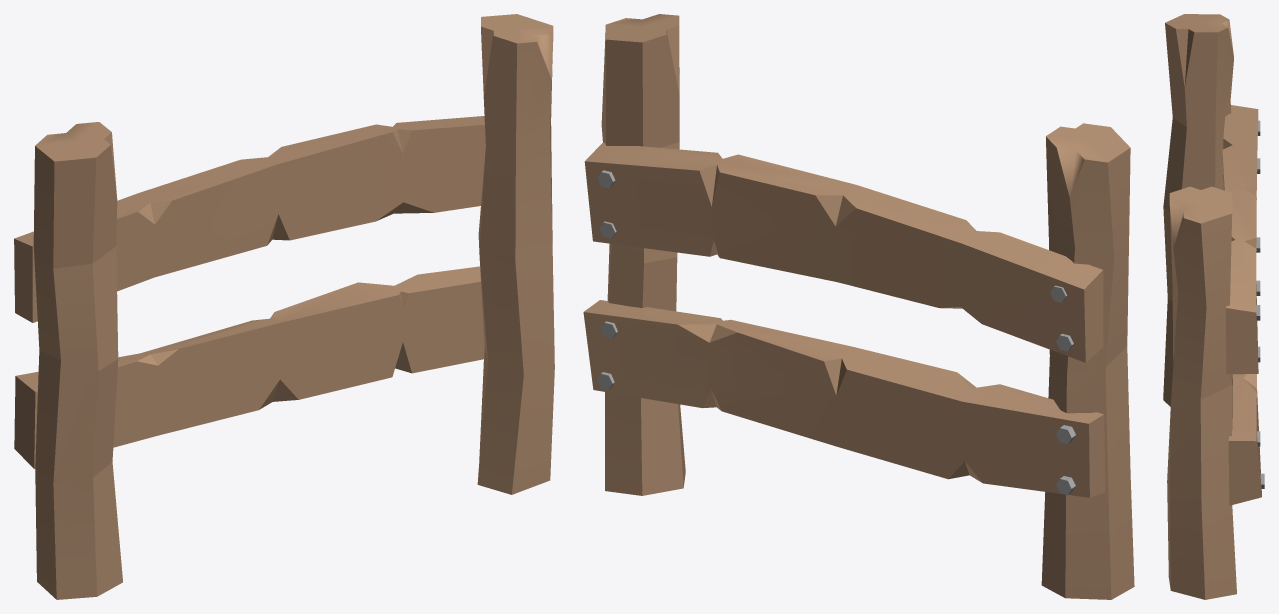
Rendered from fence.fbx.
The picture shows the model from 3 angles, left to right: view 1: azimuth 30°, elevation 25°; view 2: azimuth 150°, elevation 25°; view 3: azimuth 270°, elevation 25°; orthographic projection. The views are drawn at different scales.
Parts seen in each view (by area): view 1: pCylinder2, pCube2, pCube1, pCylinder1; view 2: pCube1, pCube2, pCylinder2, pCylinder1; view 3: pCylinder1, pCylinder2, pCube1, pCube2.
Boxes of the visible parts, <box> form: pCylinder2: <box>33,122,122,599</box>; pCube2: <box>14,266,484,468</box>; pCube1: <box>14,116,485,322</box>; pCylinder1: <box>477,14,554,494</box>; pCube1: <box>584,143,1103,362</box>; pCube2: <box>583,300,1105,497</box>; pCylinder2: <box>1041,123,1134,599</box>; pCylinder1: <box>601,14,685,495</box>; pCylinder1: <box>1167,186,1236,599</box>; pCylinder2: <box>1163,14,1233,406</box>; pCube1: <box>1222,105,1258,374</box>; pCube2: <box>1228,374,1261,505</box>.
Size of the model in its own units: 6.3 by 5.31 by 1.26.
